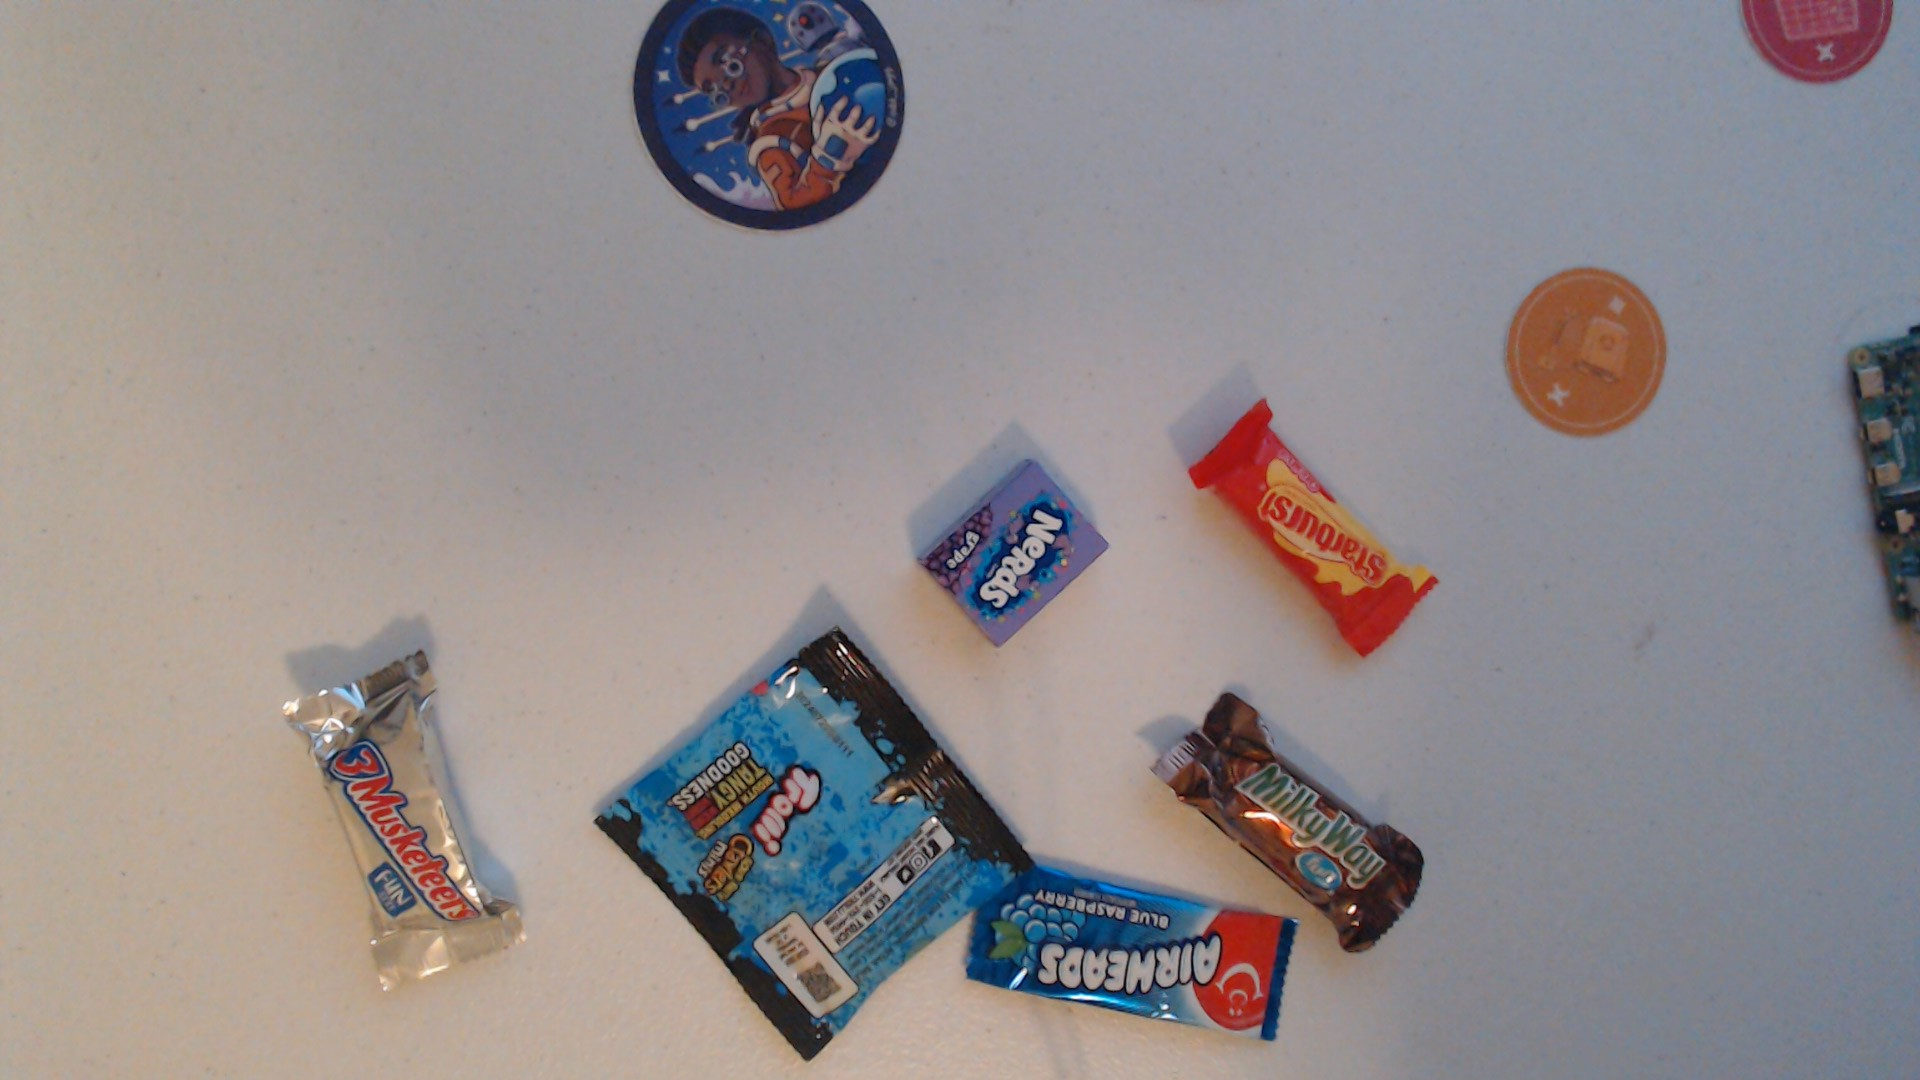airheads: (969, 848, 1317, 1050)
gummy_worms: (541, 601, 1067, 1050)
milky_way: (1112, 662, 1453, 956)
nerds: (856, 452, 1135, 646)
starbust: (1134, 372, 1482, 665)
three_musketeers: (243, 645, 541, 997)
